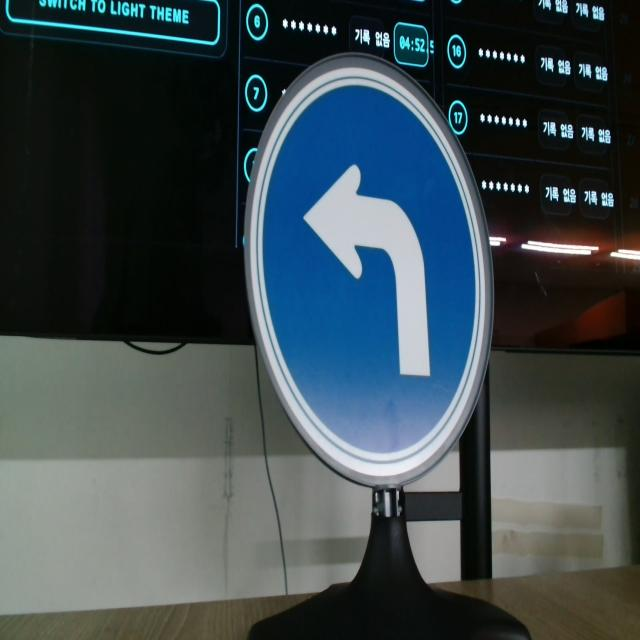left_direction: (238, 45, 498, 502)
